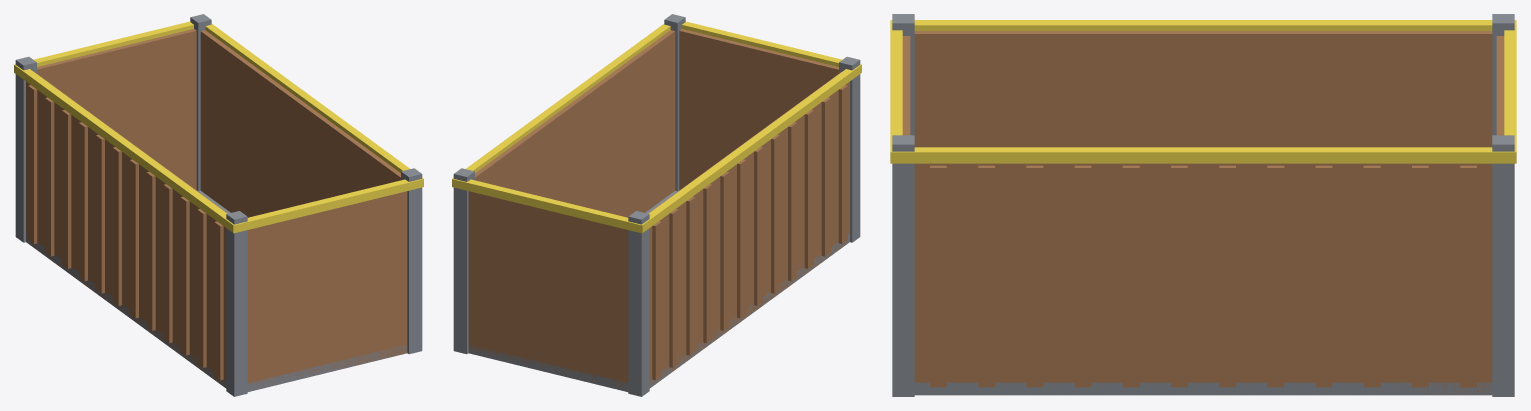
File: container.glb
The picture shows the model from 3 angles, left to right: view 1: azimuth 30°, elevation 25°; view 2: azimuth 150°, elevation 25°; view 3: azimuth 270°, elevation 25°; orthographic projection. The views are drawn at different scales.
Parts seen in each view (by area): view 1: container; view 2: container; view 3: container.
Boxes of the visible parts, x1=… form: container: x1=14, y1=14, x2=423, y2=396; container: x1=452, y1=14, x2=861, y2=396; container: x1=890, y1=14, x2=1516, y2=396.
Bounding box in the file's own units: 2.25 × 2 × 4.5.
